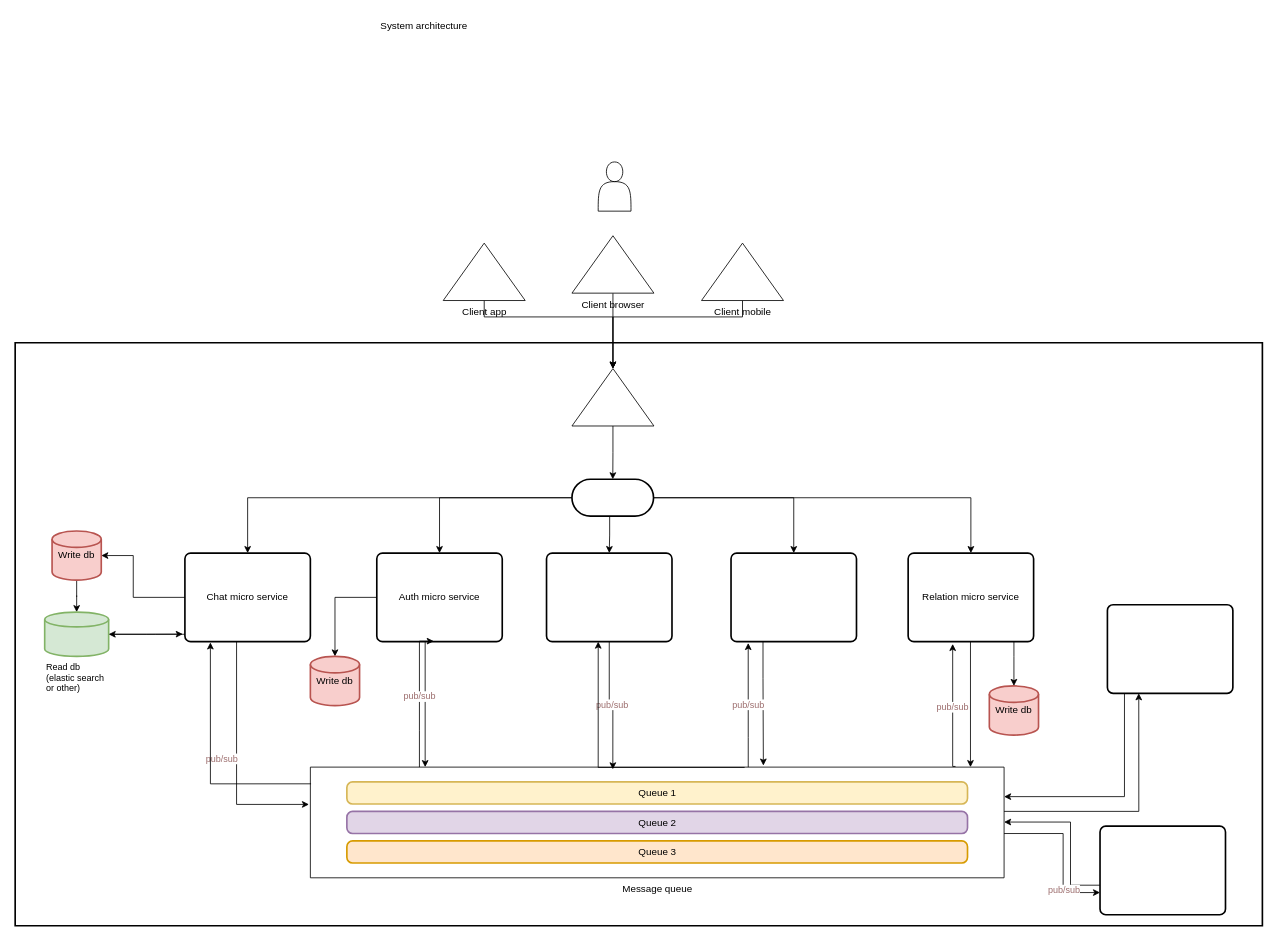
The diagram is 1277 pixels wide and 941 high, and some of its shapes have lost their labels. Each missing label, with the centre of its shape:
"Load balancer" goes at point 612,497.
"Notification micro service" goes at point 1169,649.
"USER" goes at point 614,186.
"User micro service" goes at point 608,597.
"User Status micro Service" goes at point 1162,870.
"Voice/video micro service" goes at point 793,597.
"Webserver" goes at point 612,397.
